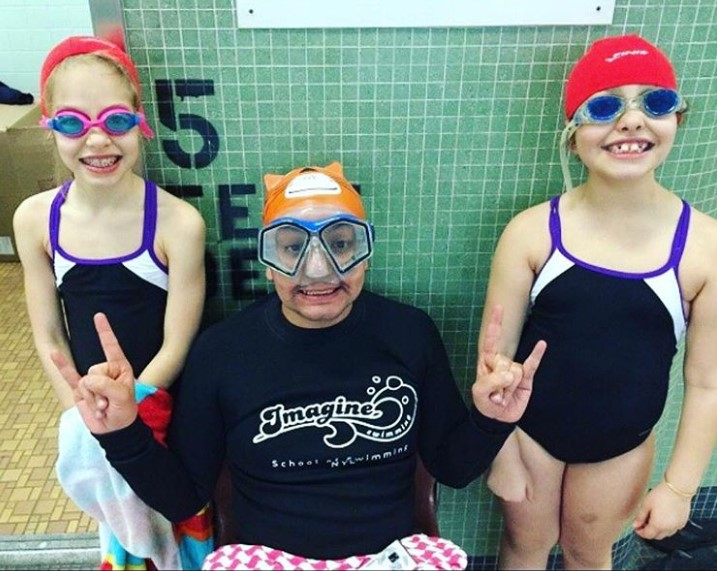face_no_mask: (40, 48, 154, 183), (571, 48, 680, 174)
